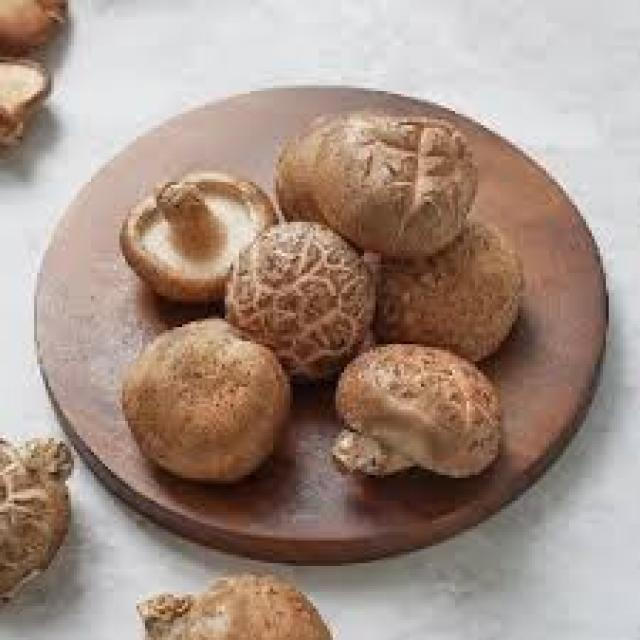Mushroom: (122, 319, 293, 485), (225, 222, 375, 380), (316, 114, 478, 260), (333, 344, 503, 479), (122, 174, 279, 304)
